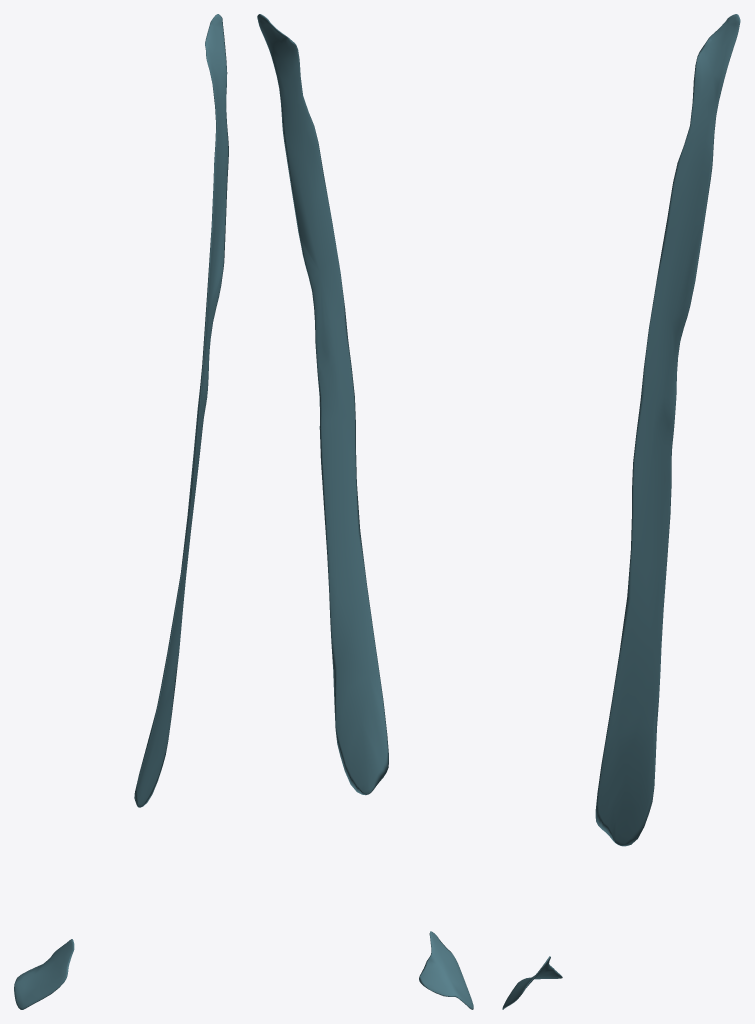
Rendered from Adductor_magnus_medial_linea_aspera_left.glb.
The picture shows the model from 3 angles, left to right: view 1: azimuth 30°, elevation 25°; view 2: azimuth 150°, elevation 25°; view 3: azimuth 330°, elevation 25°; orthographic projection. The views are drawn at different scales.
Visible parts, largest first — view 1: Adductor_magnus_on_medial_lip_of_linea_aspera.l_Generated_Me; view 2: Adductor_magnus_on_medial_lip_of_linea_aspera.l_Generated_Me; view 3: Adductor_magnus_on_medial_lip_of_linea_aspera.l_Generated_Me.
Boxes of the visible parts, left/top/right/bottom form: Adductor_magnus_on_medial_lip_of_linea_aspera.l_Generated_Me: left=14, top=14, right=228, bottom=1009; Adductor_magnus_on_medial_lip_of_linea_aspera.l_Generated_Me: left=257, top=14, right=473, bottom=1009; Adductor_magnus_on_medial_lip_of_linea_aspera.l_Generated_Me: left=502, top=14, right=740, bottom=1009.
Bounding box in the file's own units: 0.0736 × 0.317 × 0.0271.
